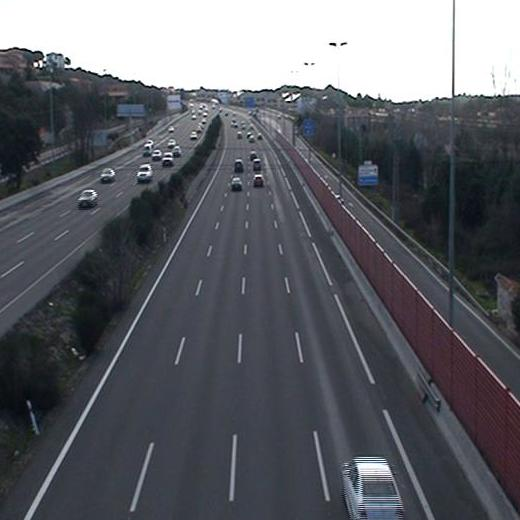car: (343, 458, 403, 520), (230, 176, 243, 192), (253, 174, 265, 188), (252, 159, 264, 171), (234, 159, 245, 169)
